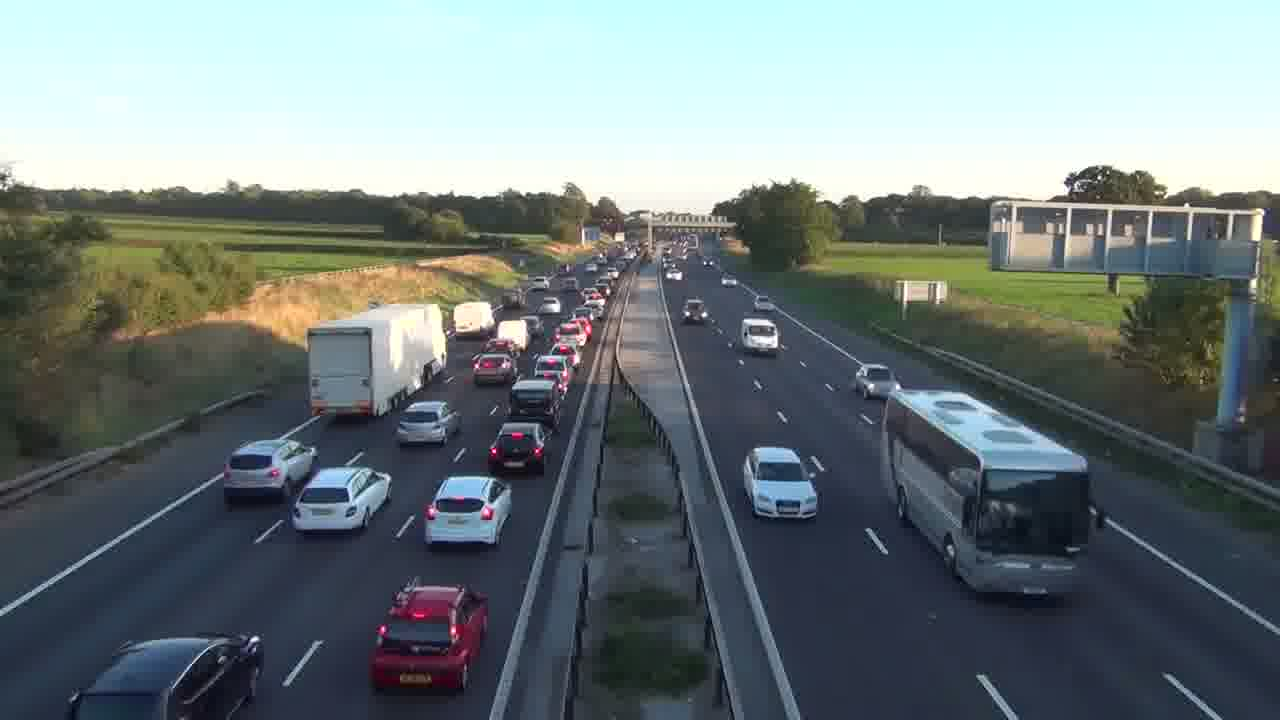bus: (882, 387, 1095, 599)
car: (66, 632, 264, 719), (369, 582, 490, 694), (290, 466, 392, 535), (422, 474, 513, 550), (223, 438, 319, 504), (742, 445, 824, 520), (488, 420, 547, 475), (394, 399, 455, 447), (509, 378, 561, 431), (853, 363, 902, 399), (471, 349, 517, 387), (532, 353, 572, 383)
truck: (306, 303, 448, 420), (450, 301, 496, 341)
